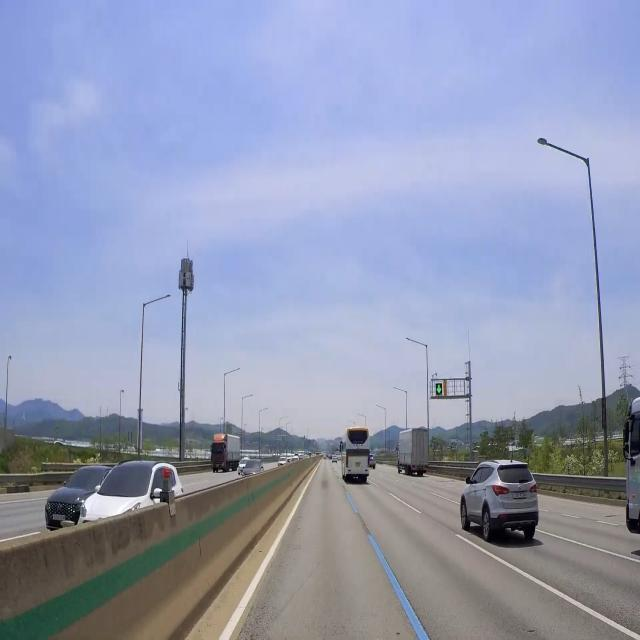car: (510, 488, 531, 504), (50, 509, 67, 527), (352, 459, 362, 472)
